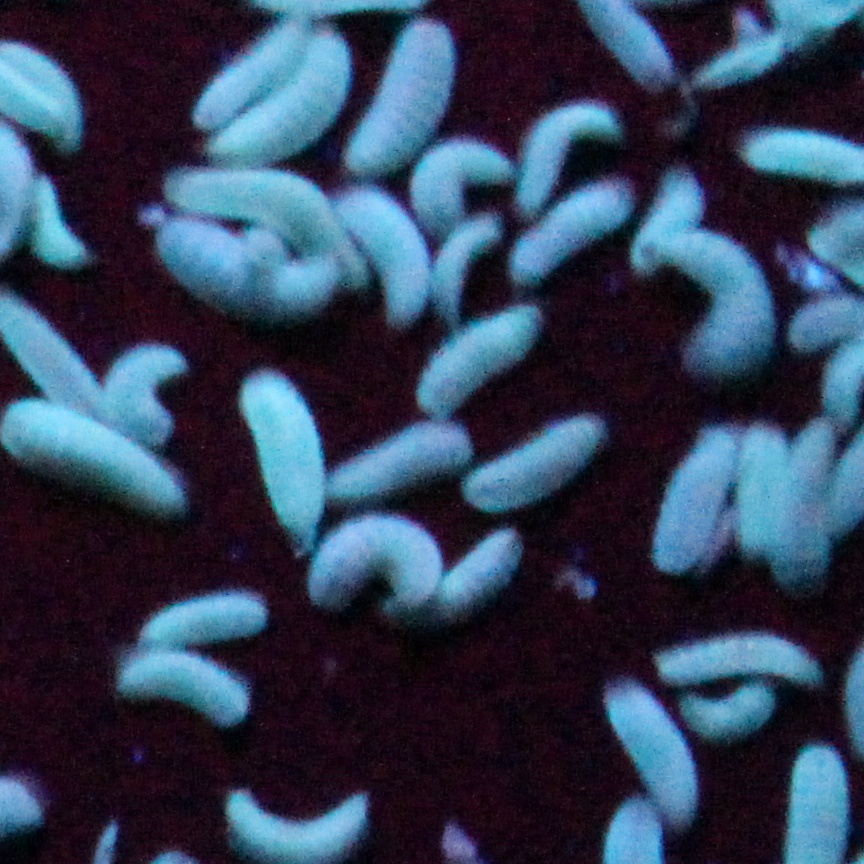larve: (170, 163, 368, 287), (2, 402, 185, 512), (646, 238, 780, 380), (214, 41, 355, 170), (346, 19, 460, 175), (241, 370, 329, 551), (416, 304, 546, 421), (312, 514, 443, 626), (605, 677, 702, 827), (463, 421, 607, 517), (507, 187, 633, 287), (324, 424, 472, 507), (512, 104, 624, 212), (192, 26, 309, 129), (653, 428, 735, 574), (221, 785, 372, 862), (351, 187, 433, 317), (656, 634, 823, 691), (113, 652, 247, 723), (436, 524, 526, 621), (786, 415, 831, 591), (104, 343, 182, 441), (139, 595, 266, 646), (633, 173, 699, 268), (7, 43, 77, 129), (743, 134, 858, 185), (680, 681, 776, 740), (739, 423, 782, 554), (441, 224, 494, 326), (24, 185, 92, 263)
